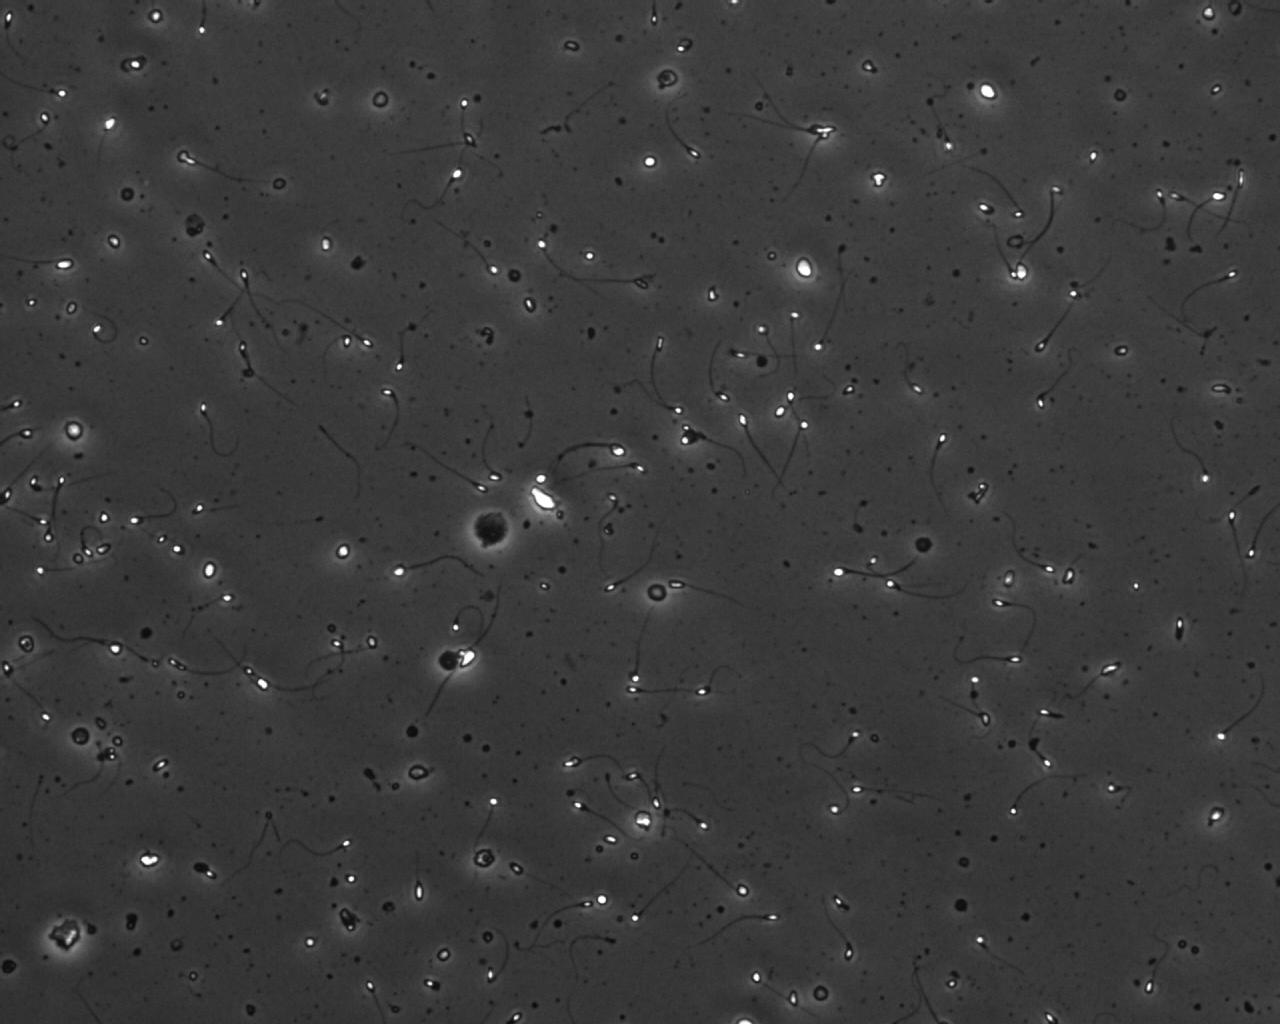cell: (465, 504, 517, 554), (43, 912, 85, 956), (469, 844, 501, 872), (434, 646, 463, 675), (652, 65, 682, 92), (182, 210, 208, 241), (642, 579, 671, 606), (67, 722, 94, 750), (791, 253, 817, 282), (61, 417, 87, 445), (404, 760, 434, 785), (974, 78, 1001, 104), (910, 533, 937, 558), (13, 631, 38, 658), (808, 981, 834, 1006), (368, 87, 393, 112), (116, 182, 139, 206), (560, 34, 584, 55)
